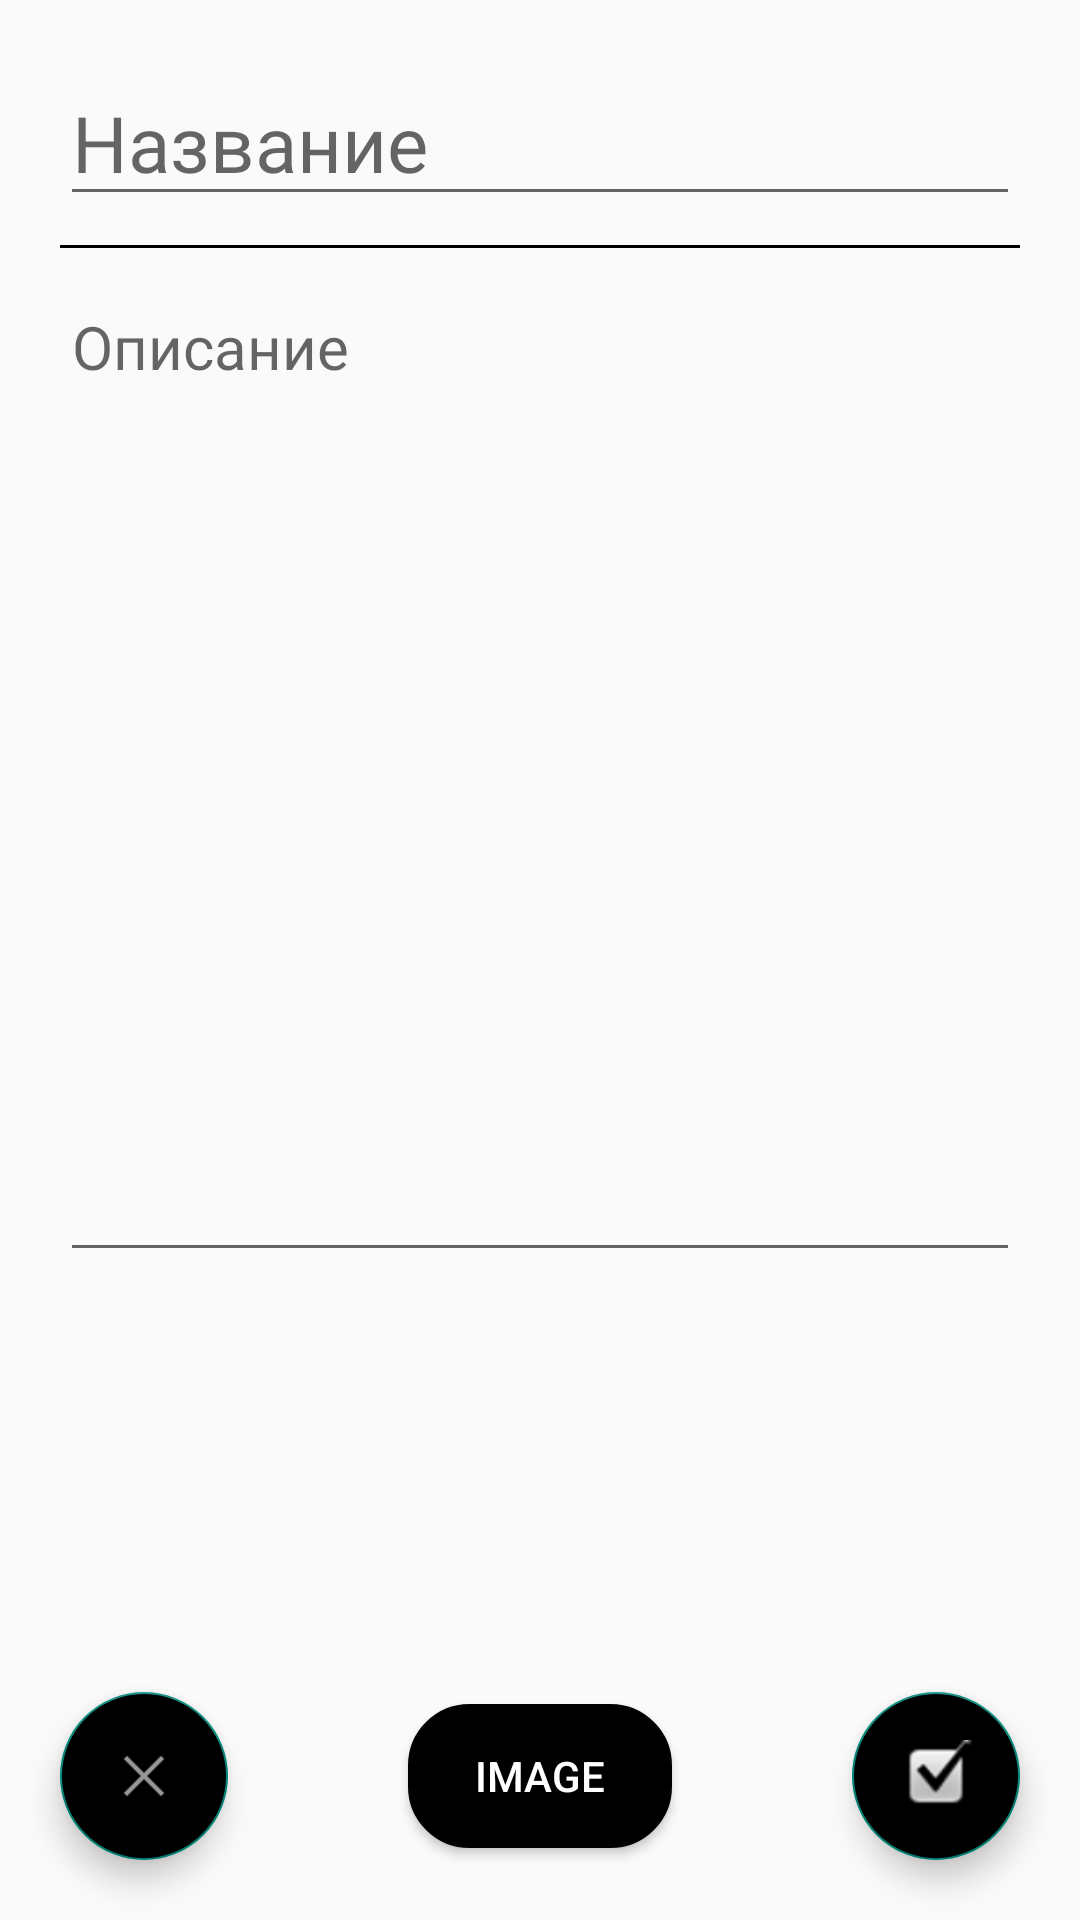

Named icons in this screenshot (1080px×1920px) and their bounding boxes, (x1, y1, x2, y2):
close clear cancel: (60, 1692, 228, 1860)
